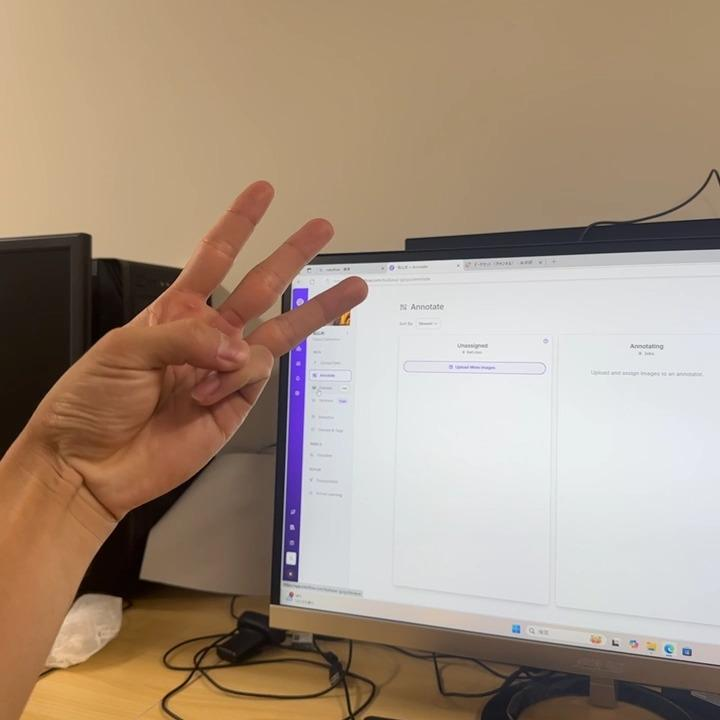without_gloves: (39, 124, 393, 552)
